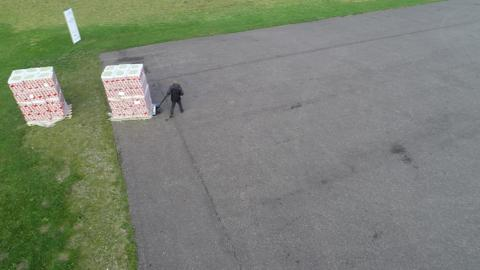RockwoolPallet: (7, 70, 65, 122)
